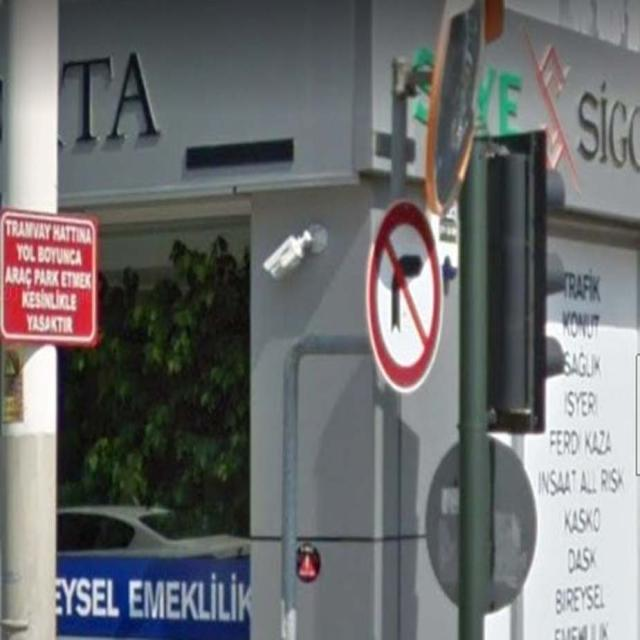sagadonulmez: (366, 198, 442, 390)
